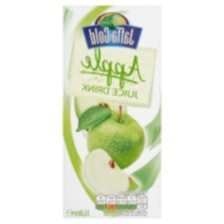carton: (51, 4, 166, 222)
